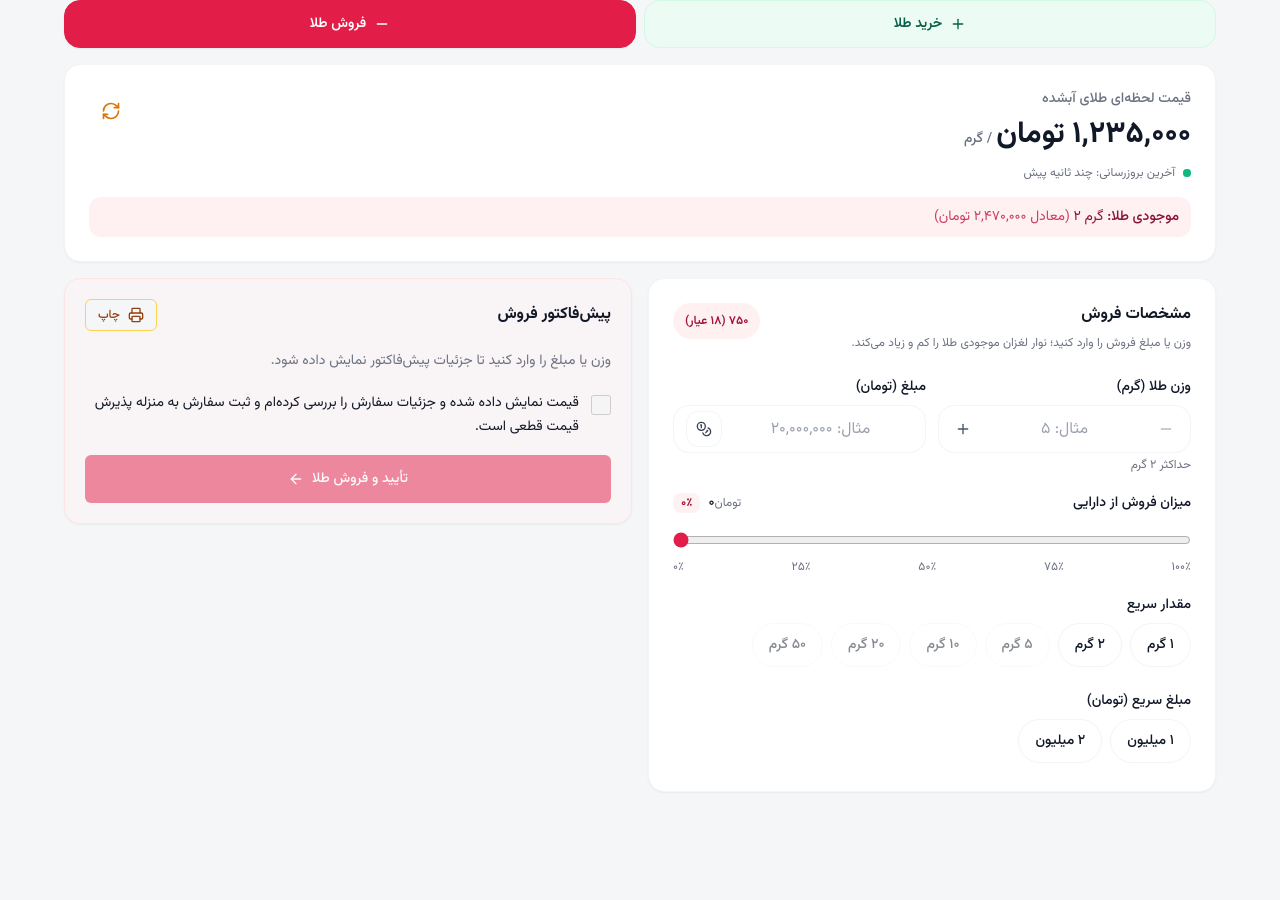
Test: BuyGoldPage › fills sell weight from a quick weight chip within the holding
This screenshot has width=1280, height=900.
Expected: the text "قیمت لحظه‌ای طلای آبشده" is shown, x1=1042 y1=88 x2=1191 y2=110
Step 1. Click the button "۱ گرم" → (1160,645), box x1=1130 y1=623 x2=1191 y2=667
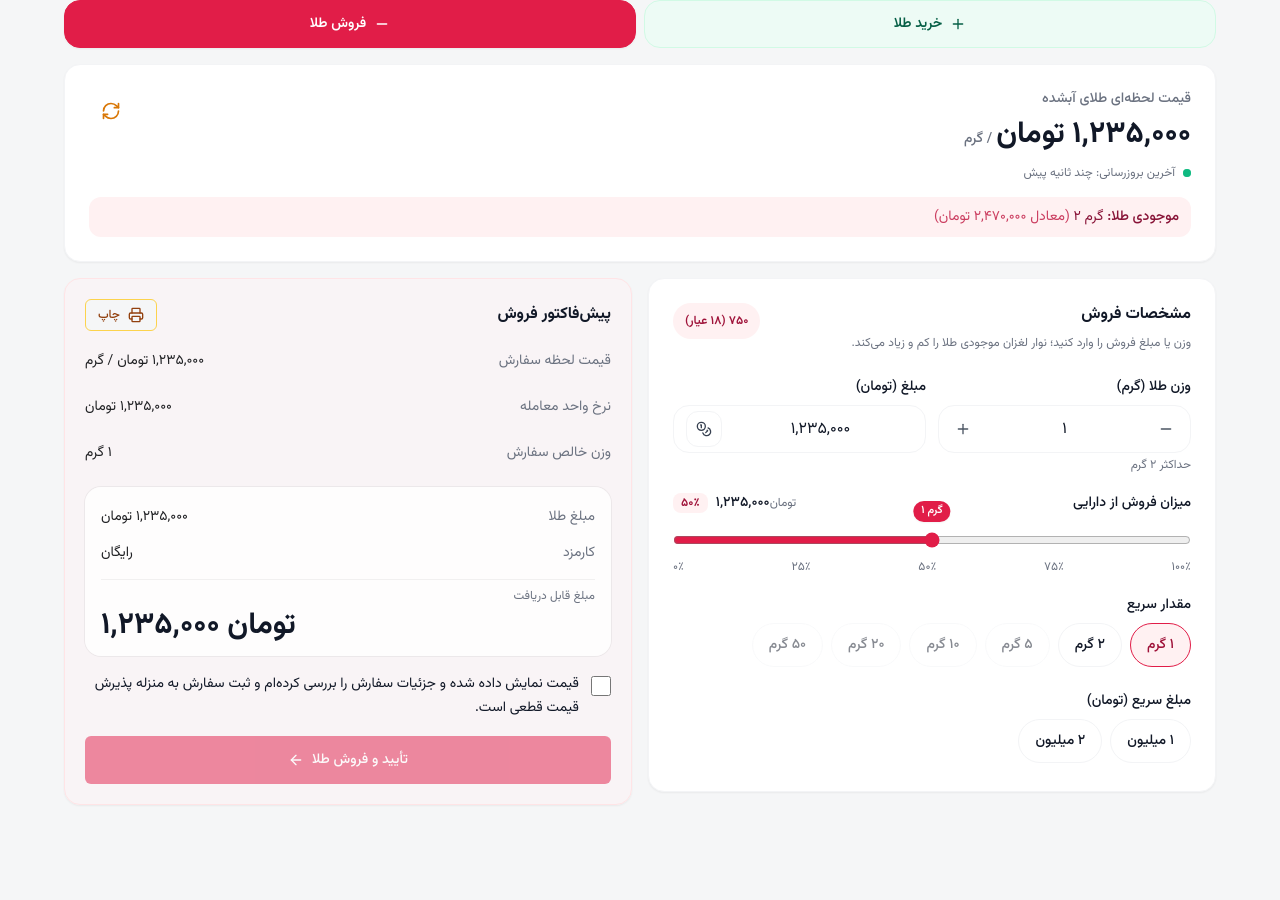
Now the field showing "۱" is shown, box x1=985 y1=406 x2=1144 y2=452
Now the text "مبلغ قابل دریافت" is shown, box x1=513 y1=587 x2=595 y2=605
